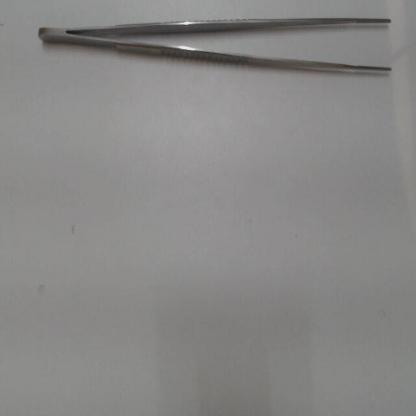DeBakey Dissector: (13, 11, 406, 98)
